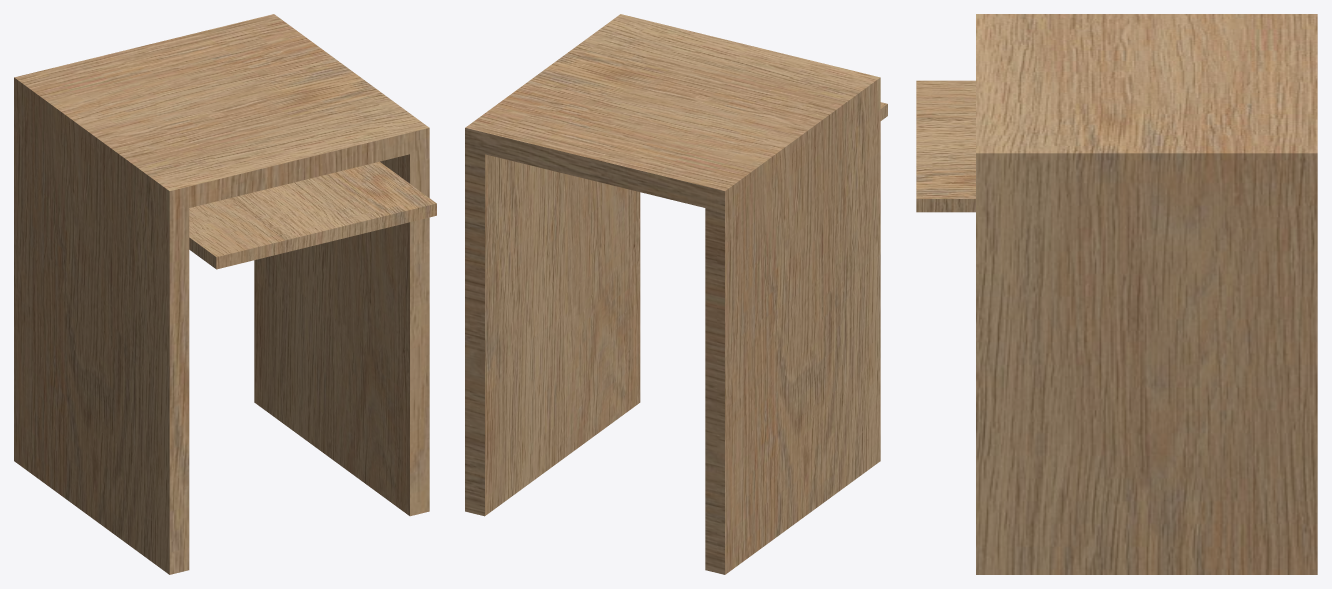
File: TallDesk.fbx
3 renders of one model, left to right at view 1: azimuth 30°, elevation 25°; view 2: azimuth 150°, elevation 25°; view 3: azimuth 270°, elevation 25°, orthographic. The views are drawn at different scales.
Parts seen in each view (by area): view 1: Cube; view 2: Cube; view 3: Cube.
Boxes of the visible parts, x1,y1,x2,y2 form: Cube: (14, 14, 436, 574); Cube: (465, 14, 887, 574); Cube: (916, 14, 1317, 574).
Bounding box in the file's own units: 17867 × 25204 × 21727.
